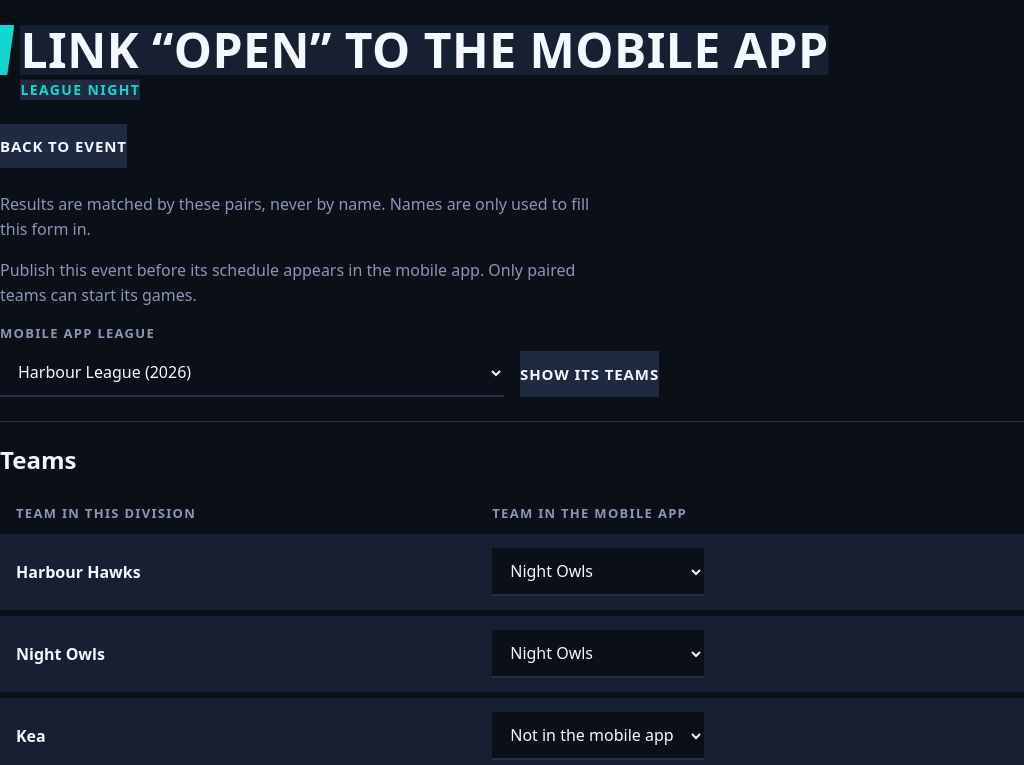
LinkView (M-03) › keeps the pairs a person chose over name guesses, and the hint follows each change
Select "Not in the mobile app" in the dropdown named "Mobile team for Night Owls" at [598, 654], box 492,630 -> 704,678
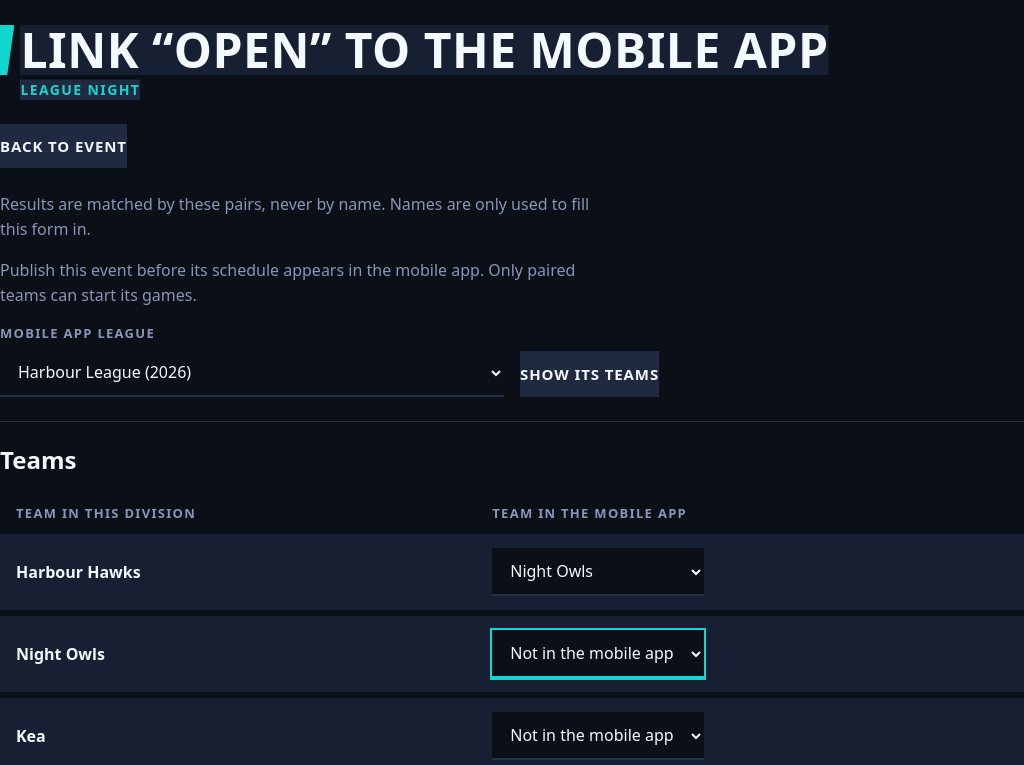
Select "Harbour Hawks BC" in the dropdown named "Mobile team for Kea" at [598, 736], box 492,712 -> 704,760
(page scrolled)
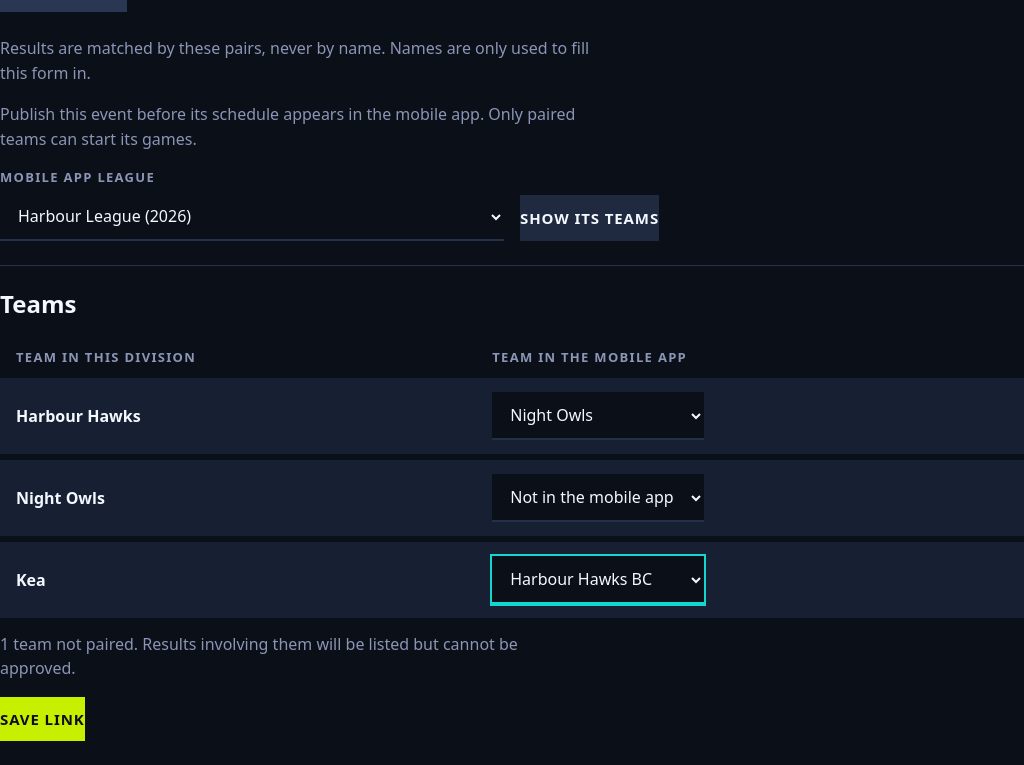
Expected: the text "1 team not paired." is shown, 0,633 -> 518,679
